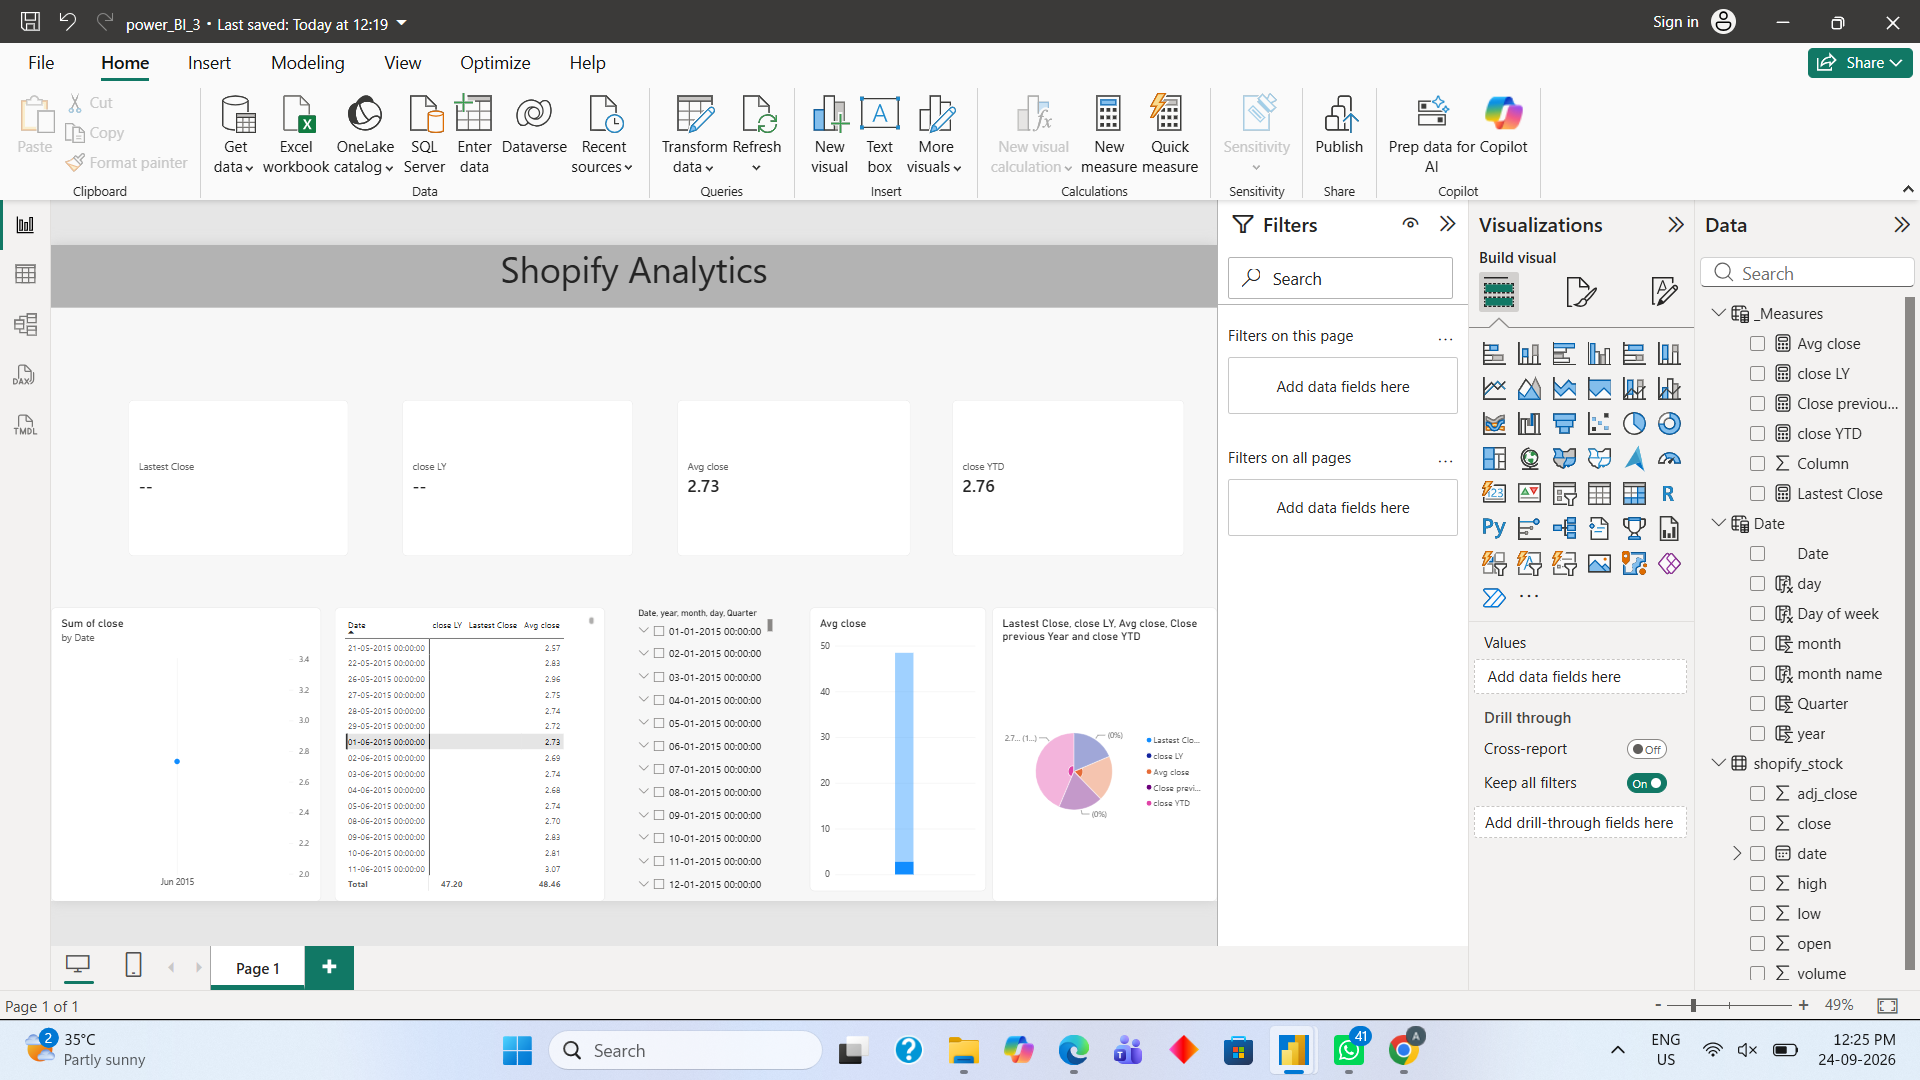

The dashboard page shown, as its layout file describes it:
{"tool":"powerbi","page":{"name":"Page 1","canvas":[1920,1080],"ordinal":0},"visuals":[{"type":"lineStackedColumnComboChart","fields":{"Category":["Date.Date"],"Y2":["Sum(shopify_stock.close)"]},"box":[0,596.9,444.6,483.7],"z":0},{"type":"cardVisual","fields":{"Data":["_Measures.Lastest Close"]},"box":[127.6,255.2,362.3,257.3],"z":1000},{"type":"cardVisual","fields":{"Data":["_Measures.close LY"]},"box":[578.4,255.2,380.8,257.3],"z":2000},{"type":"cardVisual","fields":{"Data":["_Measures.Avg close"]},"box":[1031.2,255.2,384.9,257.3],"z":3000},{"type":"cardVisual","fields":{"Data":["_Measures.close YTD"]},"box":[1484.1,255.2,382.8,257.3],"z":4000},{"type":"pivotTable","fields":{"Rows":["Date.Date"],"Values":["_Measures.close LY","_Measures.Lastest Close","_Measures.Avg close"]},"box":[467.2,596.9,444.6,483.7],"z":5000},{"type":"slicer","fields":{"Values":["Date.Date","Date.year","Date.month","Date.day","Date.Quarter"]},"box":[959.2,596.9,228.5,467.2],"z":6000},{"type":"columnChart","fields":{"Y":["_Measures.Avg close"]},"box":[1249.4,596.9,290.2,467.2],"z":7000},{"type":"pieChart","fields":{"Y":["_Measures.Lastest Close","_Measures.close LY","_Measures.Avg close","_Measures.Close previous Year","_Measures.close YTD"]},"box":[1549.9,596.9,370.5,483.7],"z":8000},{"type":"textbox","box":[0,0,1920.4,102.9],"z":8001}]}

Visuals, with their boxes on the page's 1920x1080 design canvas (x1, y1, x2, y2). These are canvas units, not pixel positions in the 1920x1080 screenshot, which may show the page scaled, cropped or inside an application window:
lineStackedColumnComboChart - Date.Date x Sum(shopify_stock.close): {"left": 0, "top": 597, "right": 445, "bottom": 1081}
cardVisual - _Measures.Lastest Close: {"left": 128, "top": 255, "right": 490, "bottom": 512}
cardVisual - _Measures.close LY: {"left": 578, "top": 255, "right": 959, "bottom": 512}
cardVisual - _Measures.Avg close: {"left": 1031, "top": 255, "right": 1416, "bottom": 512}
cardVisual - _Measures.close YTD: {"left": 1484, "top": 255, "right": 1867, "bottom": 512}
pivotTable - Date.Date x _Measures.close LY: {"left": 467, "top": 597, "right": 912, "bottom": 1081}
slicer - Date.Date x Date.year: {"left": 959, "top": 597, "right": 1188, "bottom": 1064}
columnChart - _Measures.Avg close: {"left": 1249, "top": 597, "right": 1540, "bottom": 1064}
pieChart - _Measures.Lastest Close x _Measures.close LY: {"left": 1550, "top": 597, "right": 1920, "bottom": 1081}
textbox: {"left": 0, "top": 0, "right": 1920, "bottom": 103}
